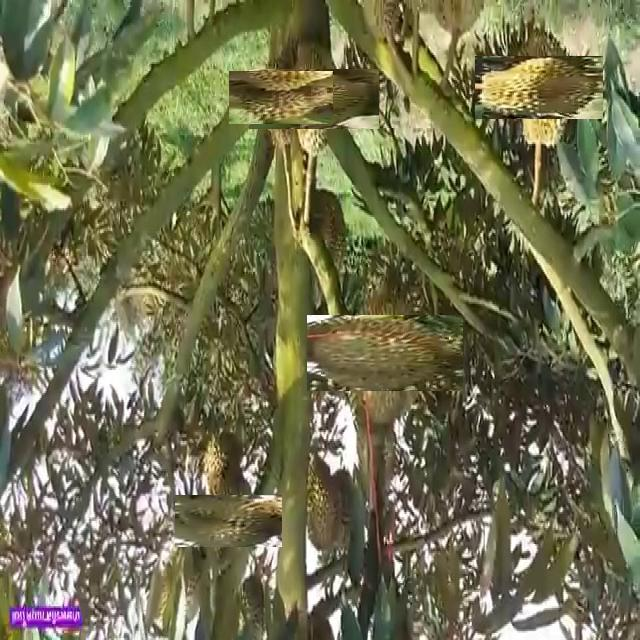durian: (327, 294, 443, 411), (492, 39, 588, 136), (266, 51, 362, 146), (188, 481, 268, 561), (242, 58, 320, 138), (304, 451, 338, 554), (322, 463, 357, 558)
